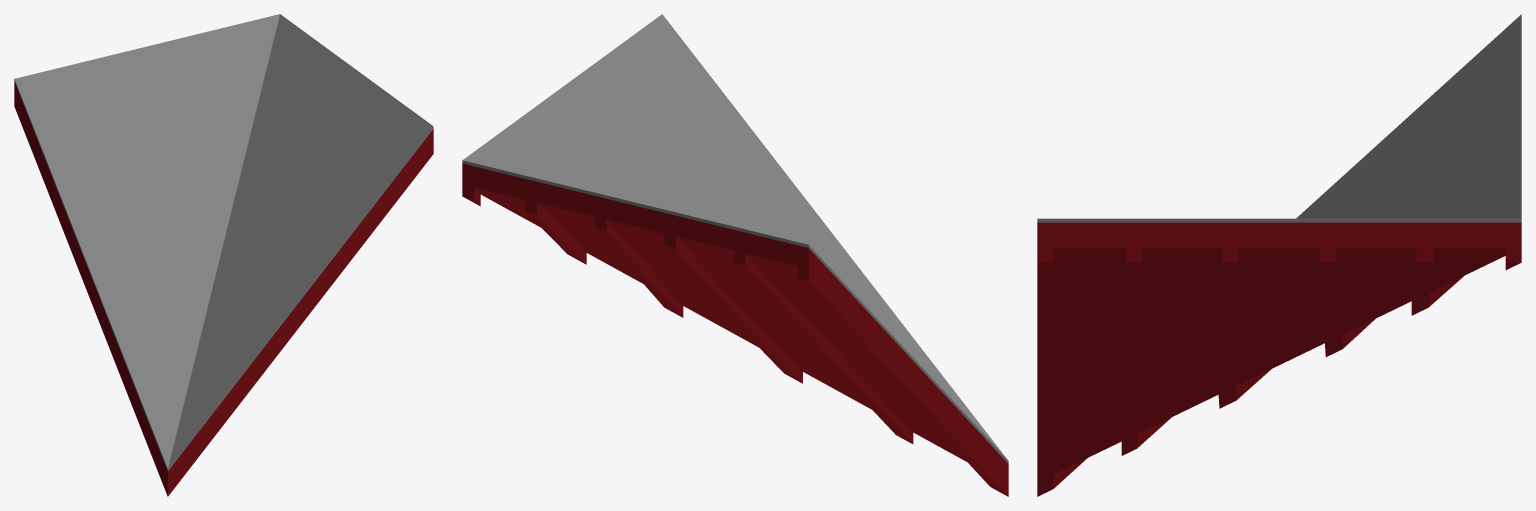
File: SM_MH_01_Slate_Roof_Intersection_01.fbx
3 renders of one model, left to right at view 1: azimuth 30°, elevation 25°; view 2: azimuth 150°, elevation 25°; view 3: azimuth 270°, elevation 25°, orthographic. The views are drawn at different scales.
Visible parts, largest first — view 1: SM_MH_01_Slate_Roof_Intersection_01_LOD0; view 2: SM_MH_01_Slate_Roof_Intersection_01_LOD0; view 3: SM_MH_01_Slate_Roof_Intersection_01_LOD0.
Part boxes in pixels (<box>): SM_MH_01_Slate_Roof_Intersection_01_LOD0: <box>14,14,433,496</box>; SM_MH_01_Slate_Roof_Intersection_01_LOD0: <box>462,14,1008,496</box>; SM_MH_01_Slate_Roof_Intersection_01_LOD0: <box>1037,14,1521,496</box>.
Size of what is drawn, in the model's own units: 300 by 330 by 300.
